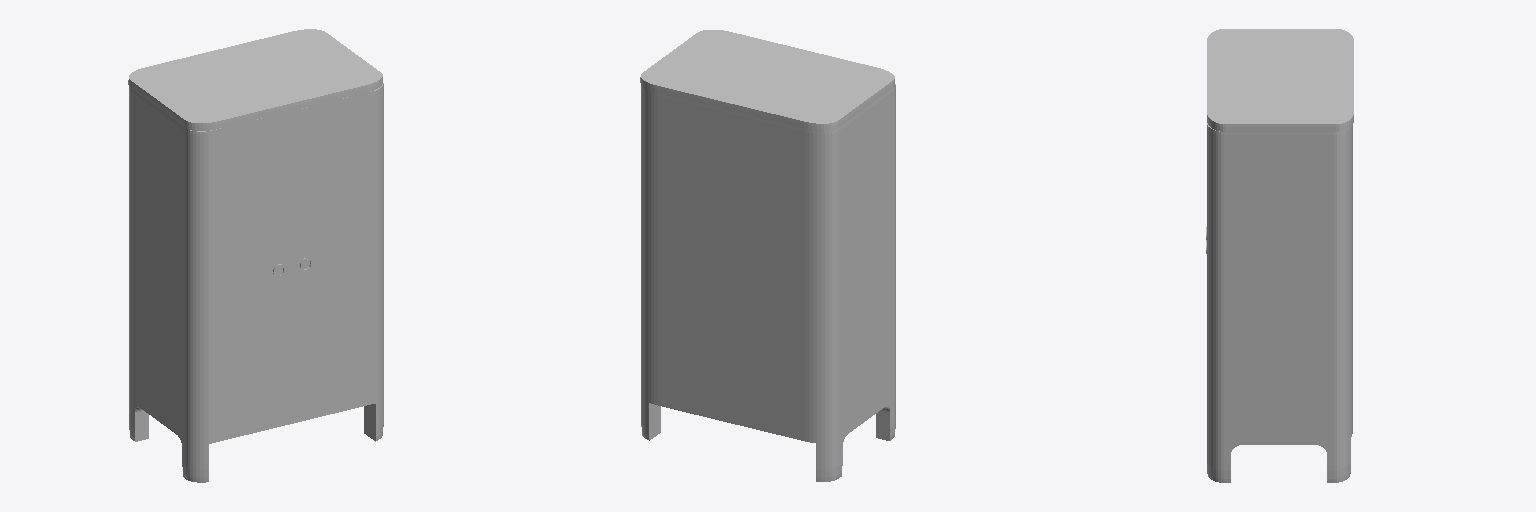
The model's file is StorageFurniture_BusungeWardrobe.obj.
3 renders of one model, left to right at view 1: azimuth 30°, elevation 25°; view 2: azimuth 150°, elevation 25°; view 3: azimuth 270°, elevation 25°, orthographic.
Visible parts, largest first — view 1: obj_0; view 2: obj_0; view 3: obj_0.
Part boxes in pixels (x1,y1,x2,y2): obj_0: (128,29,383,482); obj_0: (640,30,895,481); obj_0: (1206,29,1353,482).
Bounding box in the file's own units: 80 × 140 × 52.43.